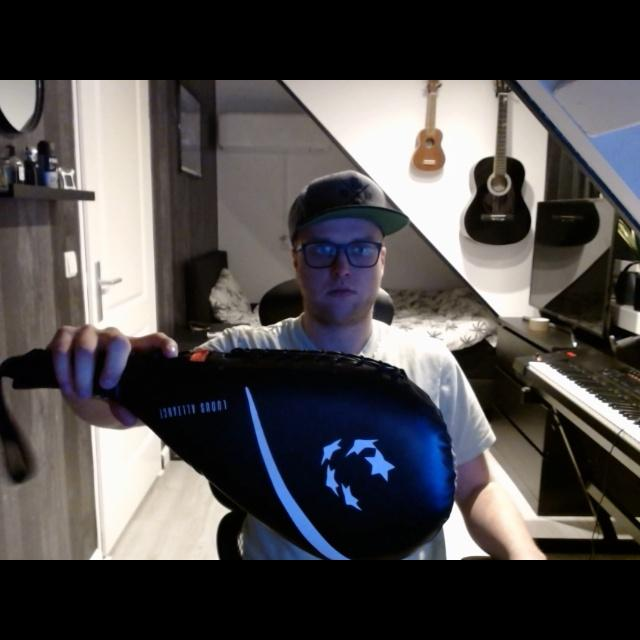paddle: (1, 337, 457, 558)
